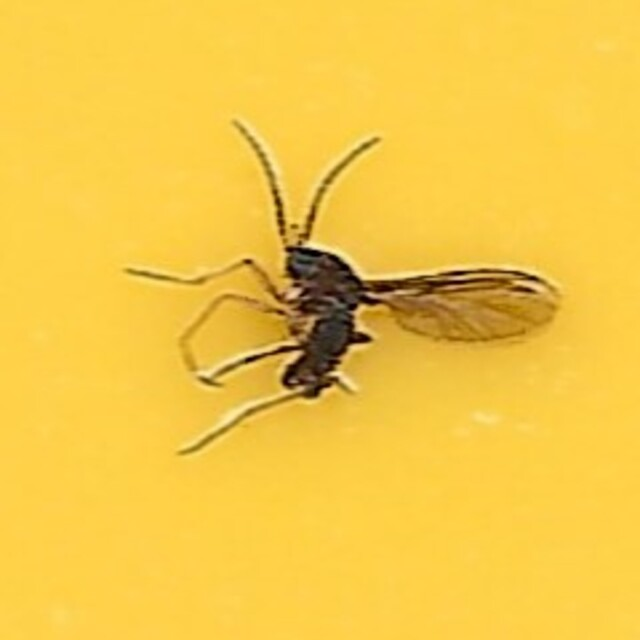Nematocera: (267, 234, 373, 406)
